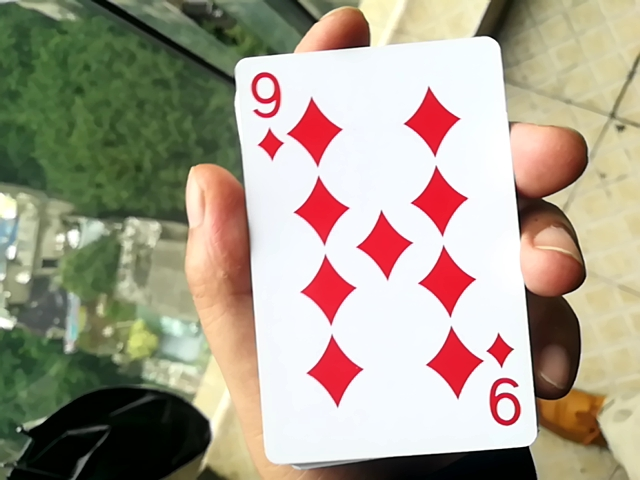fk 9: (218, 25, 536, 463)
